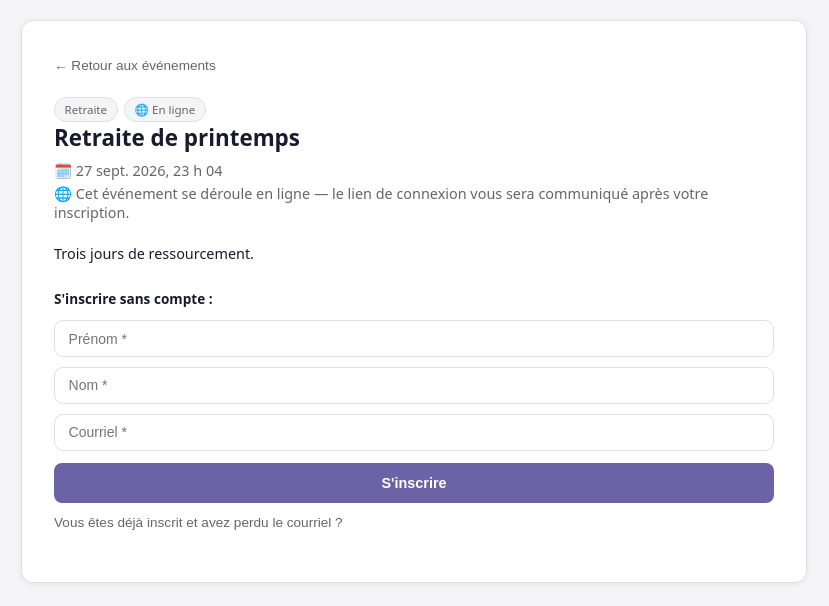
Test: EventDetailPage — lien en ligne › révèle le lien renvoyé par l'inscription
Check: the heading "Retraite de printemps" is shown, box [54,122,300,153]
Type "Marie" into the field with placeholder "Prénom *".
click(414, 339); type("Marie")  # box [54,320,774,357]
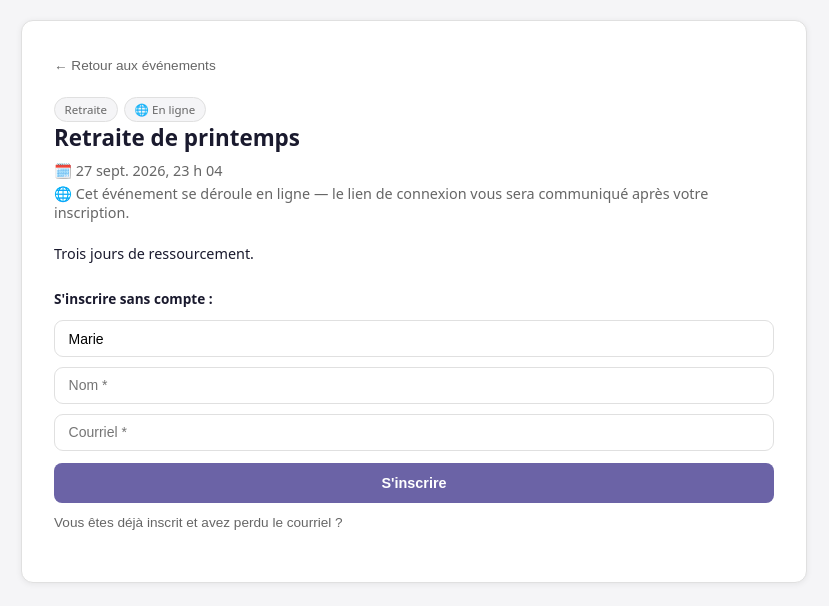
Type "Dupont" into the field with placeholder "Nom *".
click(414, 385); type("Dupont")  # box [54,367,774,404]
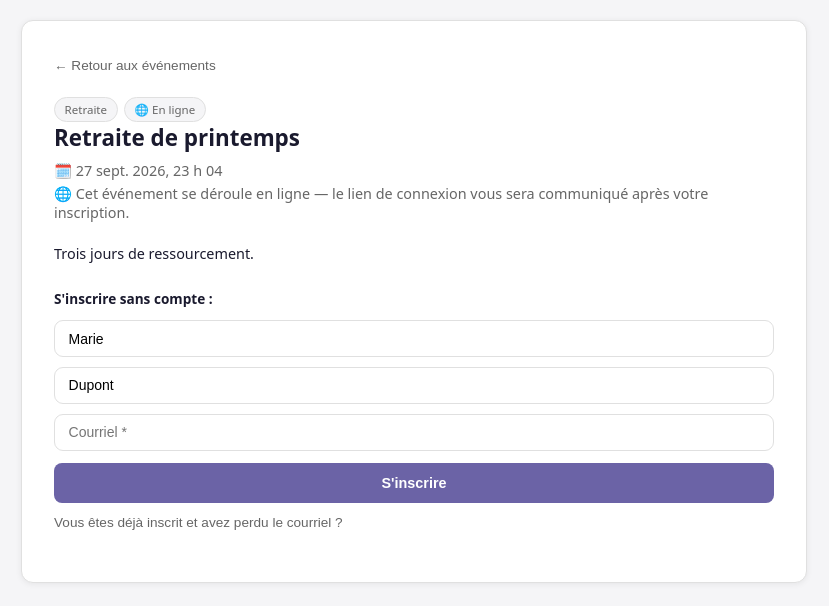
Type "marie@exemple.com" into the field with placeholder "Courriel *".
click(414, 432); type("marie@exemple.com")  # box [54,414,774,451]
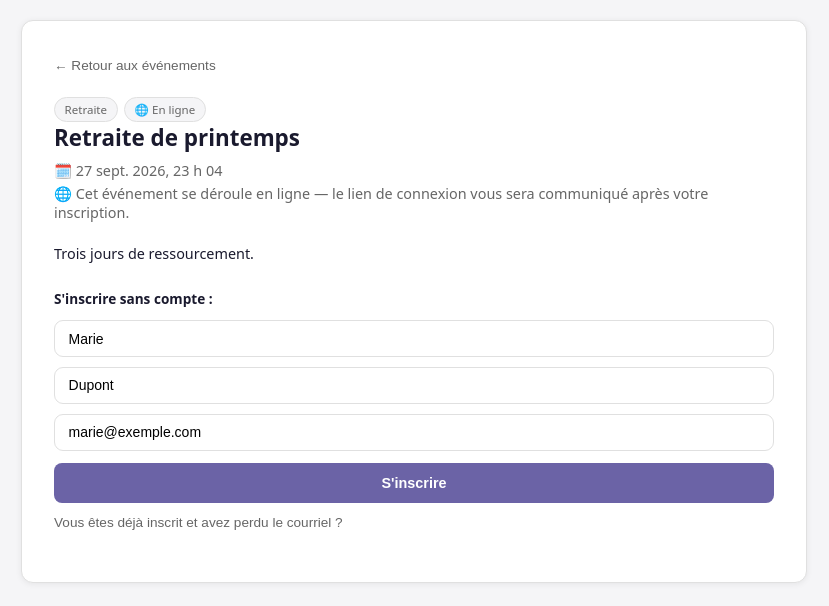
Click the button "S'inscrire".
click(414, 483)  # box [54,463,774,503]
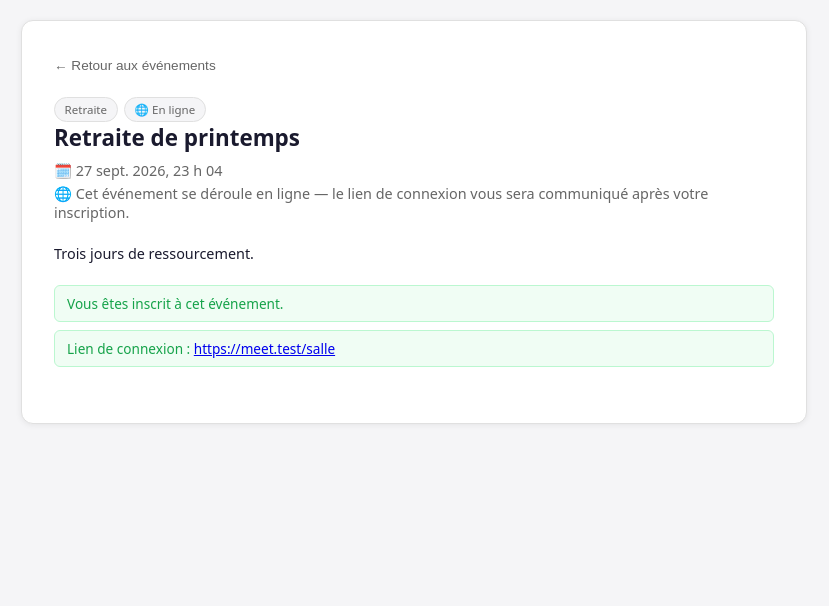
Check: the text "Lien de connexion : https://meet.test/salle" is shown, box [54,330,774,367]
Check: the link "https://meet.test/salle" is shown, box [194,339,335,358]
